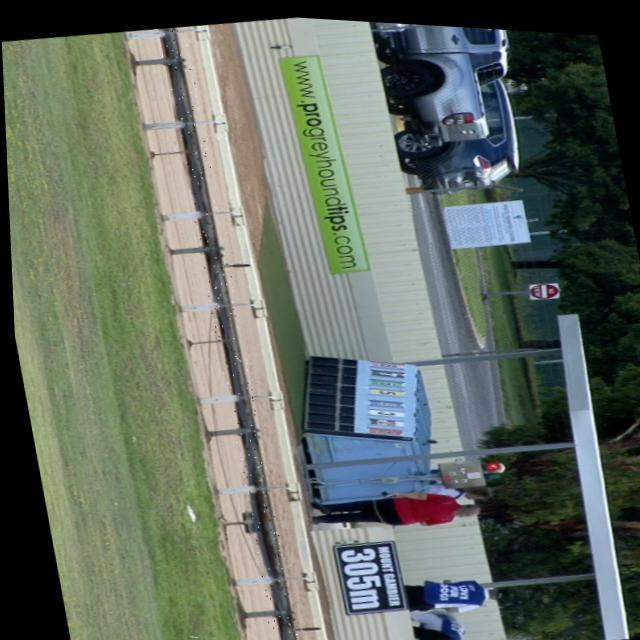rail: (158, 26, 292, 640)
